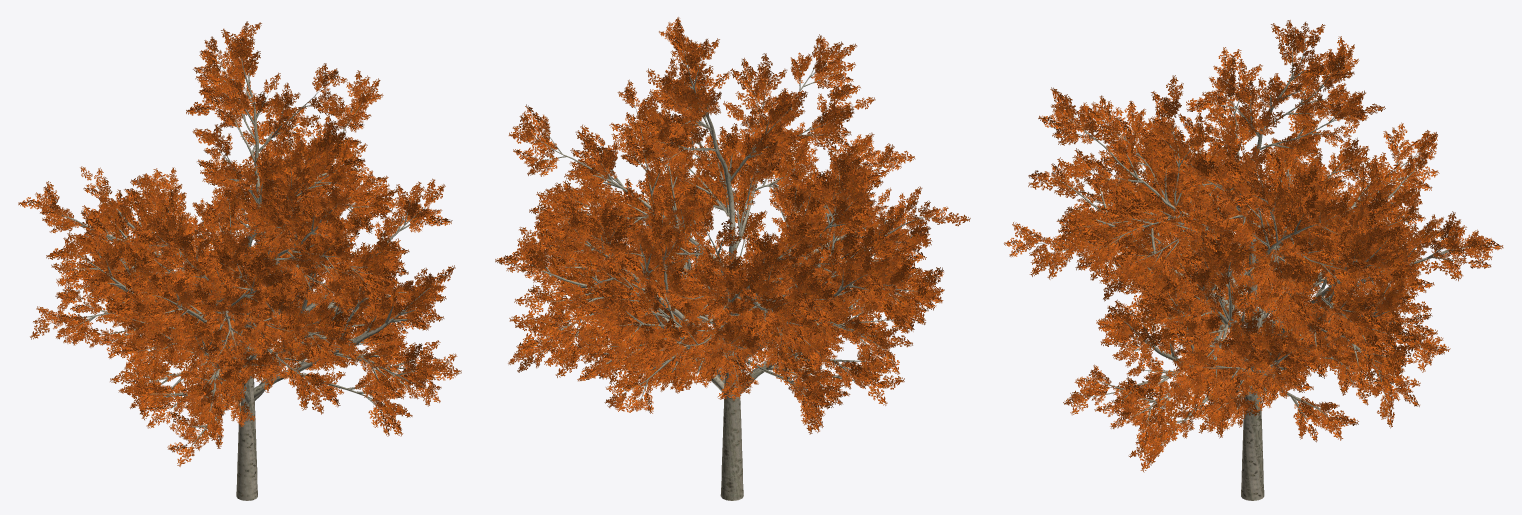
The model's file is autumn_tree_compressed.glb.
3 renders of one model, left to right at view 1: azimuth 30°, elevation 25°; view 2: azimuth 150°, elevation 25°; view 3: azimuth 270°, elevation 25°, orthographic. The views are drawn at different scales.
Visible parts, largest first — view 1: Mesh_1, Mesh_0; view 2: Mesh_1, Mesh_0; view 3: Mesh_1, Mesh_0.
Boxes of the visible parts, x1,y1,x2,y2 form: Mesh_1: (18, 21, 461, 466); Mesh_0: (52, 42, 433, 500); Mesh_1: (495, 17, 970, 434); Mesh_0: (525, 48, 939, 500); Mesh_1: (1004, 20, 1503, 472); Mesh_0: (1031, 38, 1467, 500).
Bounding box in the file's own units: 10.6 × 12.1 × 11.29.
2 materials, 2 textured.
